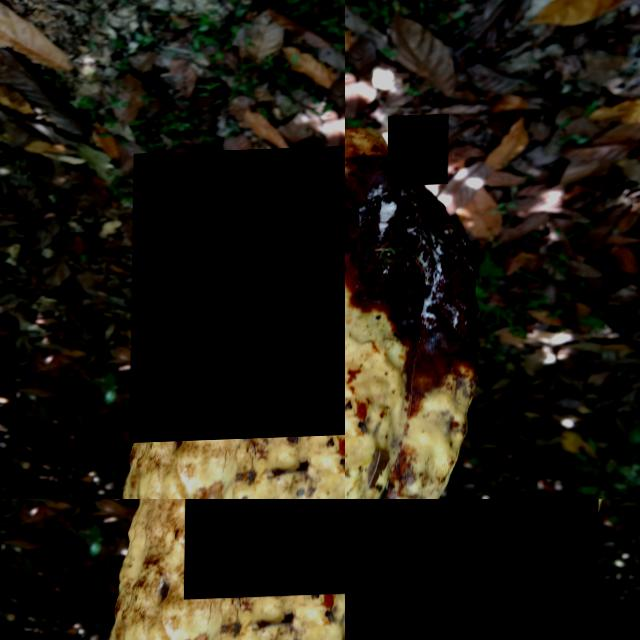Fitoftora: (388, 117, 449, 189), (345, 57, 380, 104)
Monilia: (131, 145, 345, 443), (345, 499, 603, 640), (185, 499, 345, 600), (377, 59, 478, 112)
Sana: (0, 529, 30, 627), (345, 96, 363, 206), (158, 500, 182, 555), (191, 549, 212, 595), (145, 533, 166, 572), (374, 170, 393, 204), (231, 583, 253, 610), (367, 180, 381, 202)
